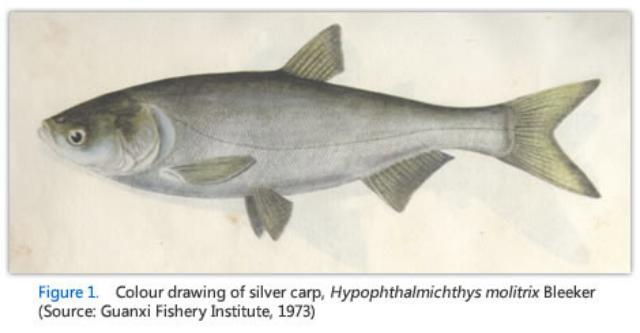Mulut: (28, 108, 68, 166)
Sirip Anal: (364, 144, 464, 212)
Sirip Dada: (170, 144, 254, 193)
Sirip Ekor: (510, 64, 618, 206)
Sirip Perut: (243, 179, 294, 245)
Sirip Punggung: (282, 21, 354, 85)
